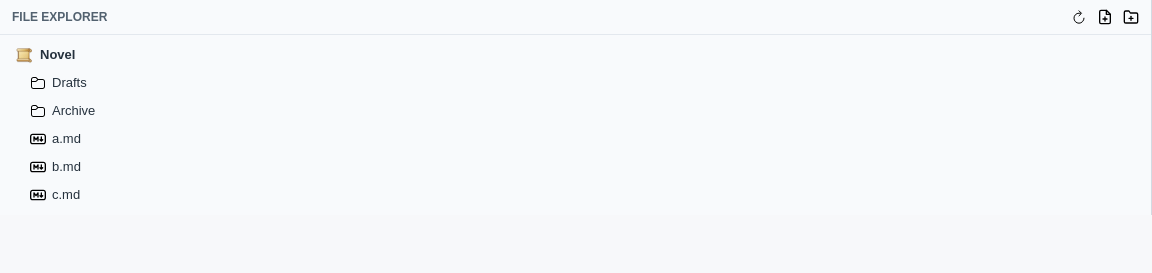
Test: FileExplorer context-menu Move — enablement (#327) › enables Move… for a files-only selection
The width and height of the screenshot is (1152, 273).
Click the list item "a.md": (38, 139) [6,125,1145,153]
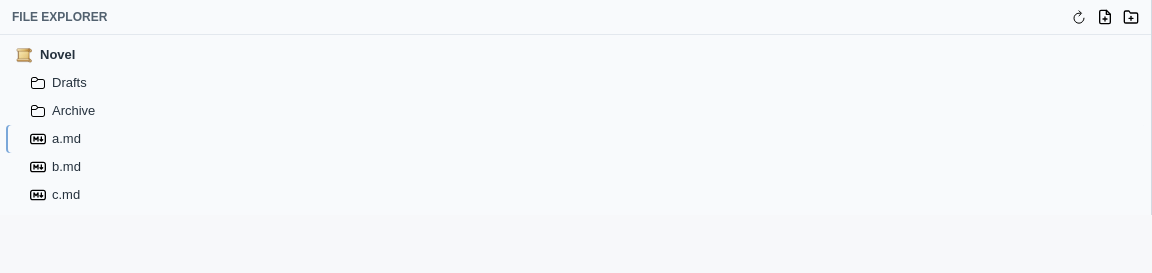
Right-click the list item "a.md": (38, 139) [6,125,1145,153]
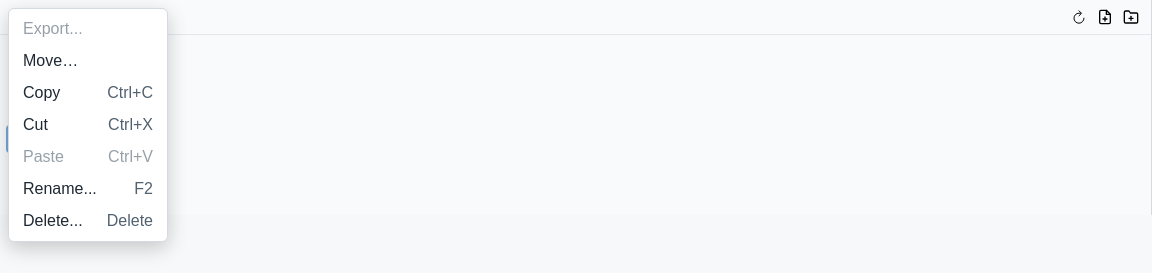
Now the menu item "Move…" is enabled, box [13,45,163,77]
